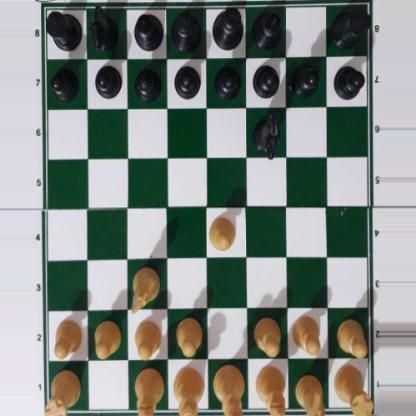black-bishop: (250, 7, 283, 49), (132, 10, 164, 49)
black-king: (211, 4, 244, 51)
black-knight: (90, 2, 117, 49), (253, 111, 280, 158)
black-pawn: (333, 62, 363, 100), (94, 62, 121, 99), (173, 61, 199, 99), (50, 65, 78, 99), (134, 64, 160, 100), (253, 60, 279, 96), (213, 63, 239, 99), (293, 60, 318, 96)
black-queen: (170, 8, 202, 50)
black-rook: (43, 7, 82, 50), (332, 2, 368, 48)
white-bishop: (254, 365, 285, 416), (133, 367, 164, 416)
white-king: (213, 364, 243, 416)
white-knight: (129, 264, 159, 310), (294, 372, 324, 416)
white-pawn: (291, 312, 322, 354), (52, 316, 82, 358), (337, 316, 367, 356), (253, 315, 282, 355), (133, 317, 161, 358), (174, 315, 202, 355), (93, 318, 120, 356), (208, 215, 235, 250)
white-queen: (172, 365, 204, 416)
white-rook: (334, 360, 370, 416), (46, 364, 78, 416)
